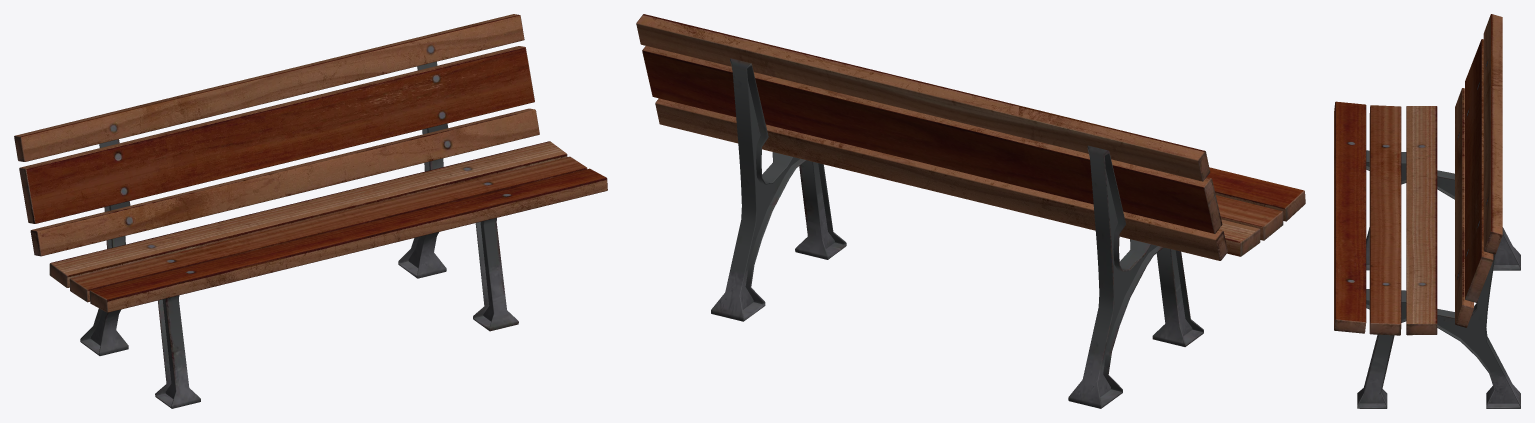
File: bench.glb
The picture shows the model from 3 angles, left to right: view 1: azimuth 30°, elevation 25°; view 2: azimuth 150°, elevation 25°; view 3: azimuth 270°, elevation 25°; orthographic projection. The views are drawn at different scales.
Visible parts, largest first — view 1: defaultMaterial (×3); view 2: defaultMaterial (×3); view 3: defaultMaterial (×3).
Boxes of the visible parts, x1,y1,x2,y2 form: defaultMaterial (×3): (14, 14, 607, 408); defaultMaterial (×3): (636, 14, 1305, 408); defaultMaterial (×3): (1334, 14, 1520, 408).
Bounding box in the file's own units: 1.8 × 0.8093 × 0.6507.
3 materials, 3 textured.
